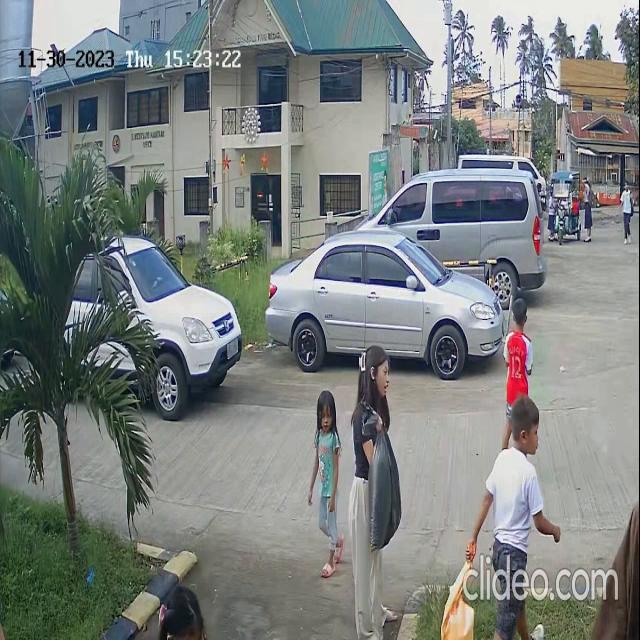garbage: (357, 413, 405, 545)
person: (500, 395, 543, 543), (308, 386, 345, 485), (352, 343, 394, 413), (503, 297, 531, 399)
